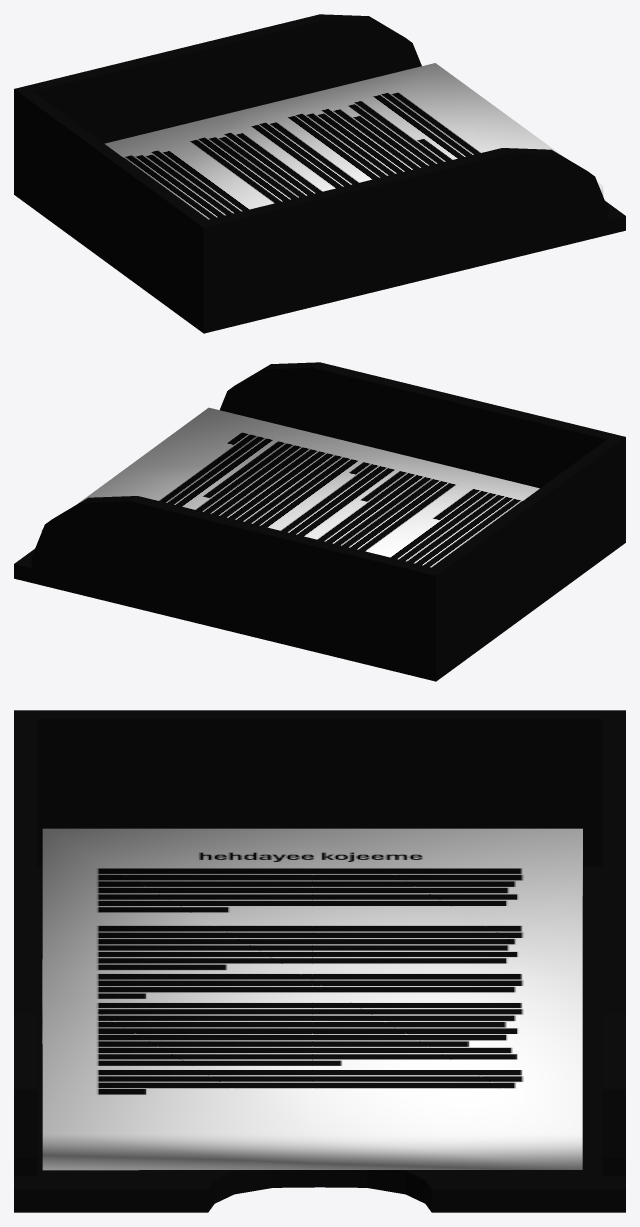
File: Document-Tray_Full.fbx
3 views of the same model, one above another, from view 1: azimuth 30°, elevation 25°; view 2: azimuth 150°, elevation 25°; view 3: azimuth 270°, elevation 25° (orthographic). The views are drawn at different scales.
Visible parts, largest first — view 1: document tray, Cube.003; view 2: document tray, Cube.003; view 3: Cube.003, document tray.
Part boxes in pixels (bbox=[...]): document tray: bbox=[14, 14, 625, 333]; Cube.003: bbox=[104, 63, 603, 219]; document tray: bbox=[14, 362, 625, 681]; Cube.003: bbox=[41, 407, 539, 567]; Cube.003: bbox=[42, 828, 582, 1170]; document tray: bbox=[14, 710, 625, 1212].
Bounding box in the file's own units: 620 × 160 × 483.
